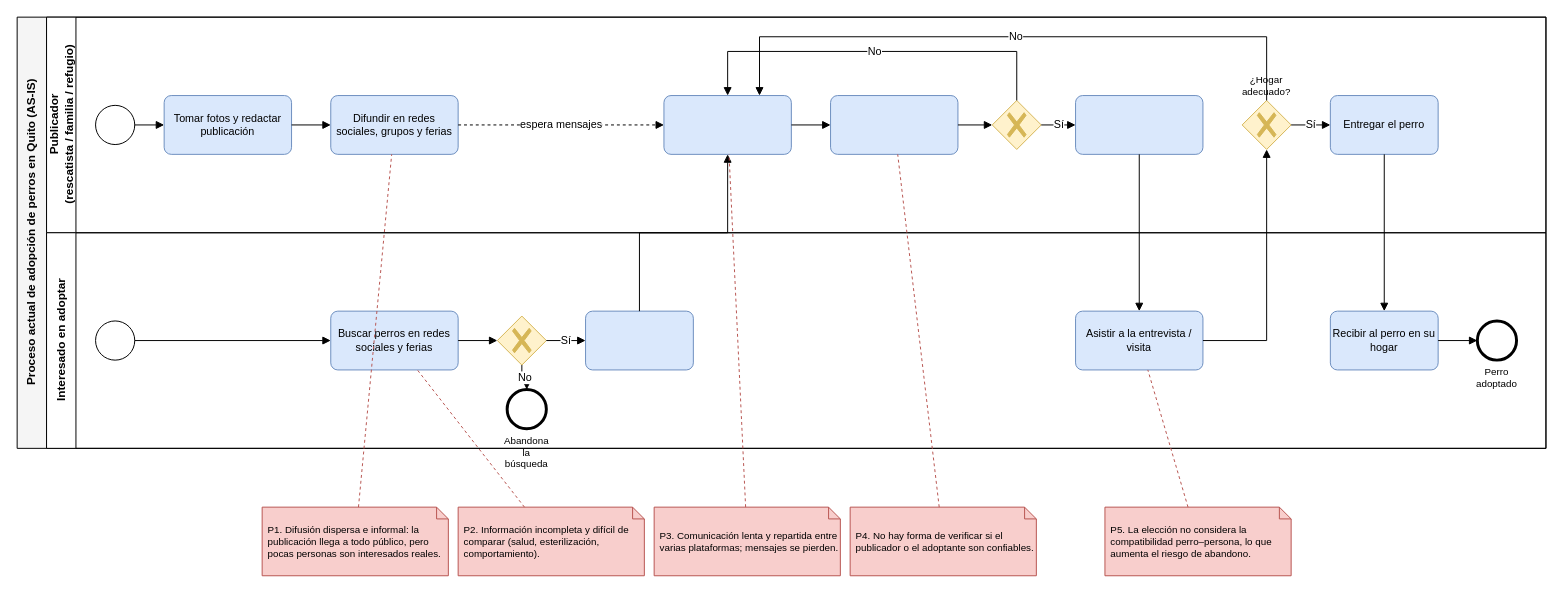
The diagram is 1563 pixels wide and 593 high, and some of its shapes have lost their labels. The shapes that lost their labels are listed below. From the top down, each one's centre as x and y in pixels, then its label:
At point 115,124: "Tiene un perro sin hogar a cargo".
At point 727,124: "Responder mensajes de interesados".
At point 894,124: "Filtrar interesados según criterio propio".
At point 1016,124: "¿Interesado confiable?".
At point 1139,124: "Coordinar visita y entrevista".
At point 115,340: "Desea adoptar un perro".
At point 521,340: "¿Encontró un perro de interés?".
At point 639,340: "Enviar mensaje al publicador".
